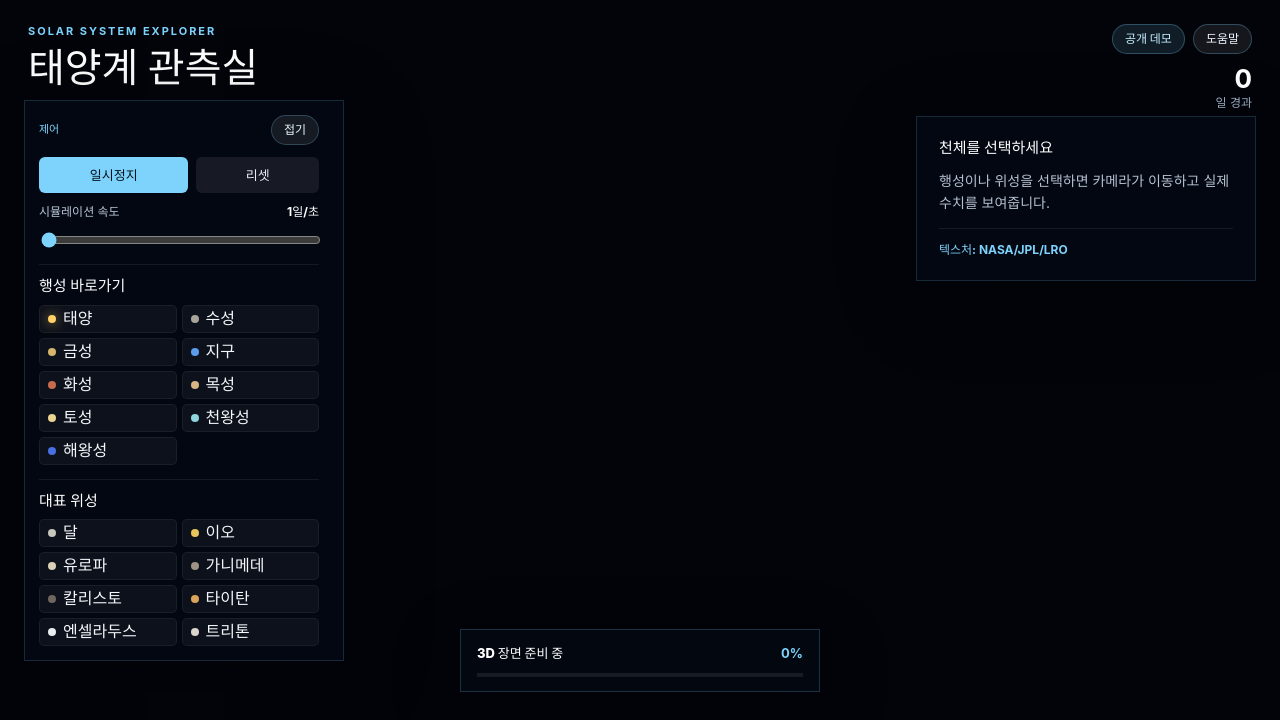
Scenario: App › focuses the Sun from the shortcut list
Click the button with aria-label "태양 선택": x=108, y=319 [39,305,176,333]
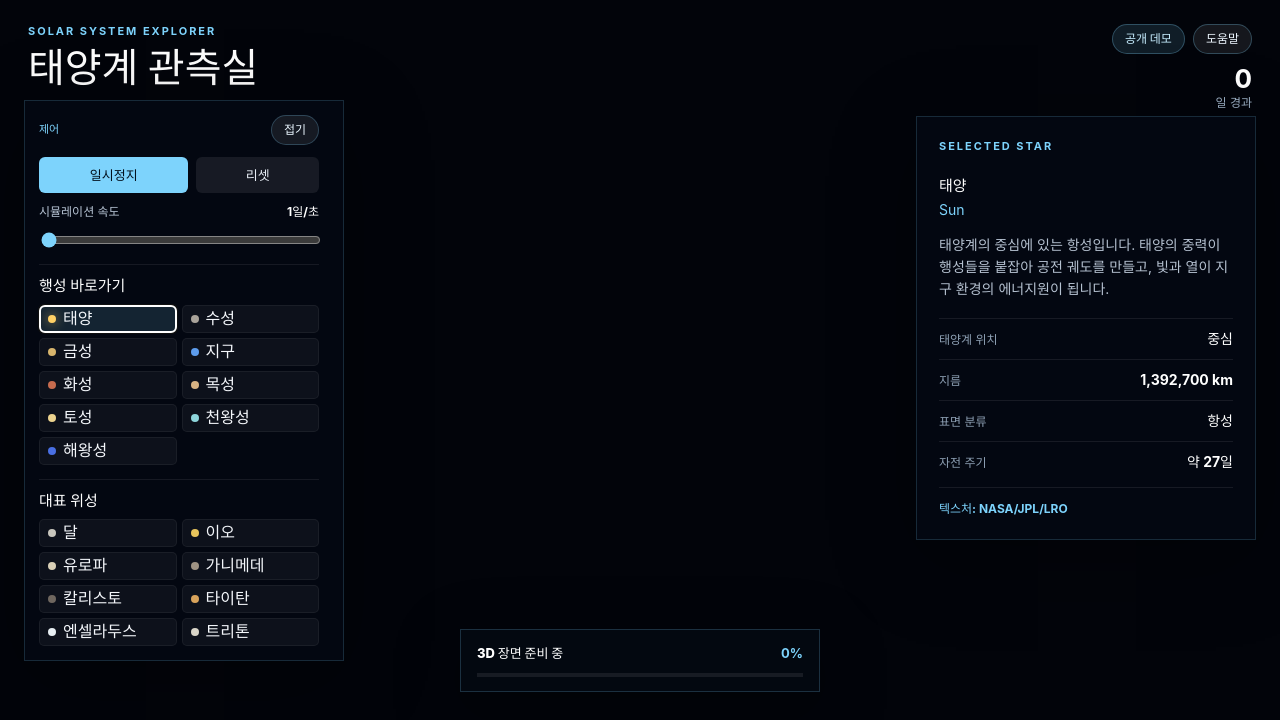
Expected: the heading "태양" is shown, [939,176,967,195]
Expected: the text "Sun" is shown, [939,201,964,218]
Expected: the text "태양계의 중심" is shown, [939,236,1228,297]
